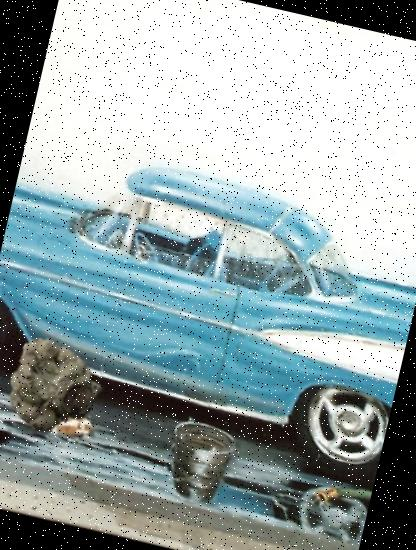Cauliflower: (0, 331, 107, 444)
